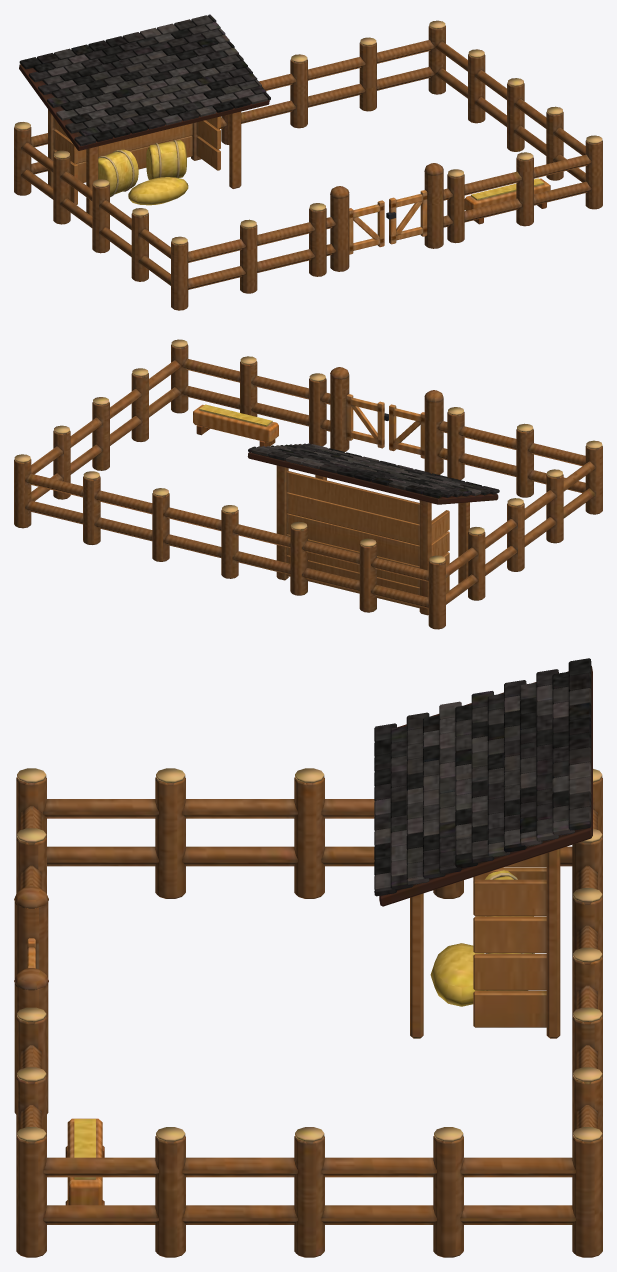
File: karakul_fold.glb
3 views of the same model, one above another, from view 1: azimuth 30°, elevation 25°; view 2: azimuth 150°, elevation 25°; view 3: azimuth 270°, elevation 25° (orthographic). The views are drawn at different scales.
Parts seen in each view (by area): view 1: karakul_fold, gate1, gate0; view 2: karakul_fold, gate1, gate0; view 3: karakul_fold.
Boxes of the visible parts, x1,y1,x2,y2 form: karakul_fold: (14,14,602,310); gate1: (386,190,427,244); gate0: (349,200,384,254); karakul_fold: (14,339,602,629); gate1: (346,394,388,448); gate0: (389,404,424,458); karakul_fold: (14,658,602,1257).
Size of the model in its own units: 3 by 0.9342 by 2.01.
Materials: 1 (1 with a texture image).
